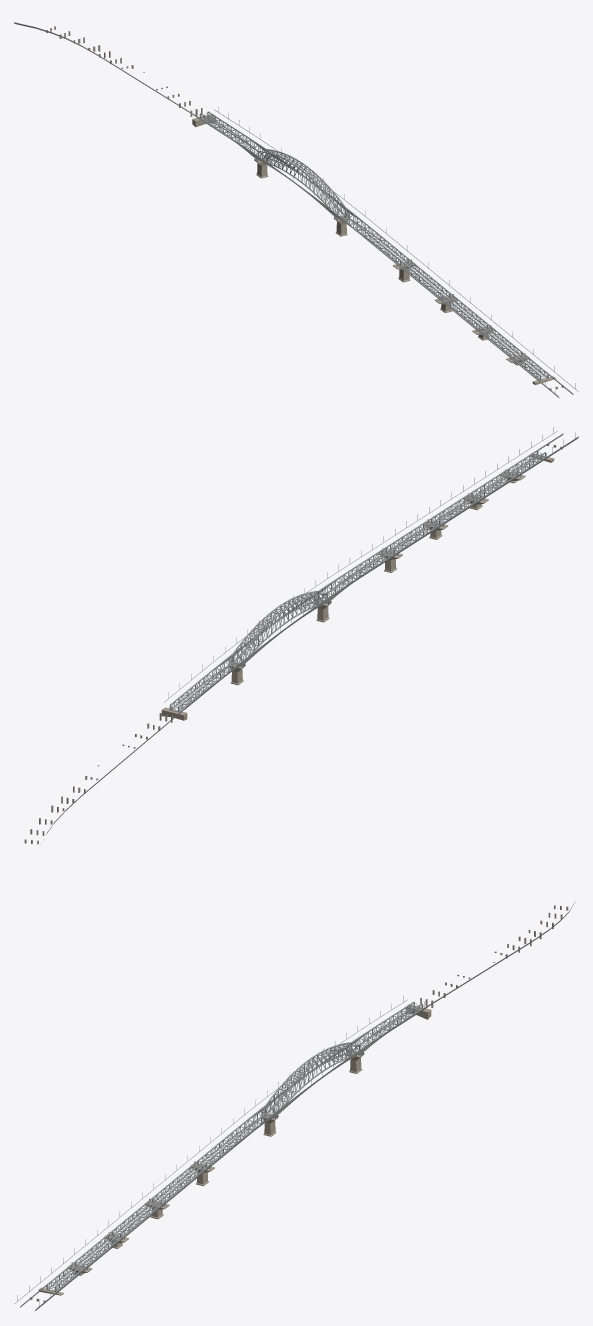
Rendered from auckland-harbour-bridge.detail.glb.
3 renders of one model, top to bottom at view 1: azimuth 30°, elevation 25°; view 2: azimuth 150°, elevation 25°; view 3: azimuth 330°, elevation 25°, orthographic. The views are drawn at different scales.
Visible parts, largest first — view 1: Auckland Harbour Bridge; view 2: Auckland Harbour Bridge; view 3: Auckland Harbour Bridge.
Boxes of the visible parts, <box> form: Auckland Harbour Bridge: <box>14,22,578,398</box>; Auckland Harbour Bridge: <box>24,427,578,844</box>; Auckland Harbour Bridge: <box>14,902,574,1310</box>.
Bounding box in the file's own units: 75.08 × 64.99 × 1607.
